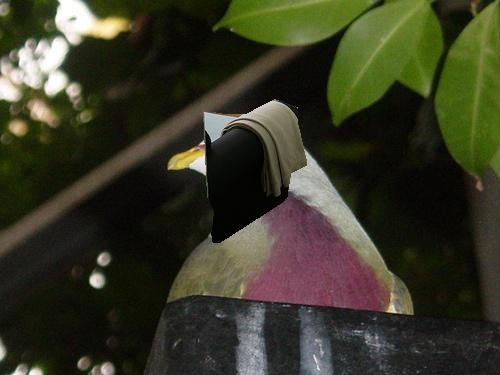tampered: (204, 100, 307, 243)
